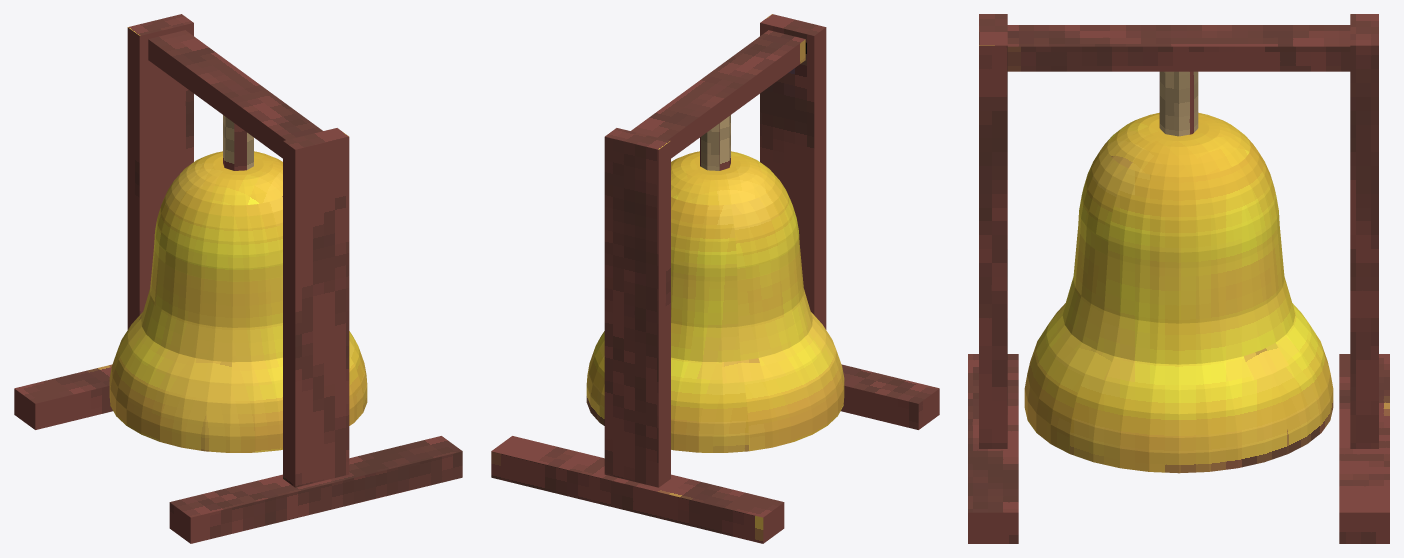
The model's file is bell.fbx.
3 views of the same model, side by side, from view 1: azimuth 30°, elevation 25°; view 2: azimuth 150°, elevation 25°; view 3: azimuth 270°, elevation 25° (orthographic). The views are drawn at different scales.
Visible parts, largest first — view 1: Stand, Bell; view 2: Stand, Bell; view 3: Bell, Stand.
Boxes of the visible parts, x1,y1,x2,y2 form: Stand: (14,14,462,543); Bell: (109,151,367,452); Stand: (491,14,939,543); Bell: (586,151,844,452); Bell: (1024,112,1333,473); Stand: (968,14,1389,543).
Bounding box in the file's own units: 243 × 311 × 273.
Materials: 2 (2 with a texture image).
